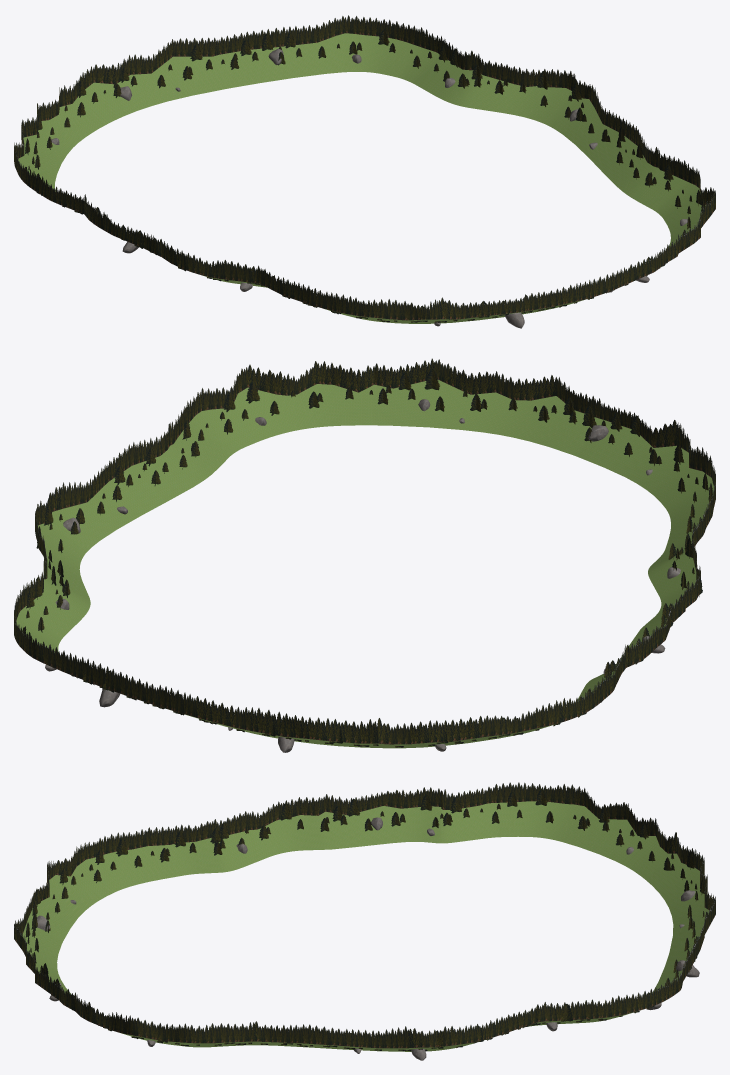
3 renders of one model, top to bottom at view 1: azimuth 30°, elevation 25°; view 2: azimuth 150°, elevation 25°; view 3: azimuth 270°, elevation 25°, orthographic. The views are drawn at different scales.
Visible parts, largest first — view 1: Wall_08, Wall_07, Wall_09, Wall_00, Wall_01, Wall_03, Wall_06, Wall_02, Wall_04, Wall_05, Trees_08, Trees_09 (+3 smaller); view 2: Wall_02, Wall_01, Wall_00, Wall_03, Wall_06, Wall_07, Wall_09, Wall_08, Wall_04, Wall_05, Trees_02, Trees_01 (+4 smaller); view 3: Wall_06, Wall_05, Wall_04, Wall_03, Wall_07, Wall_00, Wall_01, Wall_09, Wall_08, Wall_02, Trees_05, Trees_06 (+3 smaller).
Boxes of the visible parts, <box> form: Wall_08: <box>219,15,437,87</box>; Wall_07: <box>59,37,233,133</box>; Wall_09: <box>411,35,577,126</box>; Wall_00: <box>550,80,657,194</box>; Wall_01: <box>627,148,715,254</box>; Wall_03: <box>310,288,520,323</box>; Wall_06: <box>14,94,89,199</box>; Wall_02: <box>520,239,677,314</box>; Wall_04: <box>162,241,309,304</box>; Wall_05: <box>49,184,161,256</box>; Trees_08: <box>230,29,432,69</box>; Trees_09: <box>433,46,572,106</box>; Wall_02: <box>373,358,604,455</box>; Wall_01: <box>170,361,374,477</box>; Wall_00: <box>46,423,207,551</box>; Wall_03: <box>576,404,715,537</box>; Wall_06: <box>378,672,612,748</box>; Wall_07: <box>155,685,379,747</box>; Wall_09: <box>20,500,90,638</box>; Wall_08: <box>14,594,154,704</box>; Wall_04: <box>645,495,712,624</box>; Wall_05: <box>577,590,685,701</box>; Trees_02: <box>377,368,596,427</box>; Trees_01: <box>181,382,373,457</box>; Wall_06: <box>492,782,676,878</box>; Wall_05: <box>318,787,496,849</box>; Wall_04: <box>148,797,323,878</box>; Wall_03: <box>27,829,162,940</box>; Wall_07: <box>645,837,715,954</box>; Wall_00: <box>253,1021,437,1051</box>; Wall_01: <box>63,989,253,1047</box>; Wall_09: <box>432,999,599,1050</box>; Wall_08: <box>592,922,704,1022</box>; Wall_02: <box>14,906,70,1004</box>; Trees_05: <box>320,794,483,831</box>; Trees_06: <box>492,789,655,861</box>.
Size of what is drawn, in the model's own units: 412 by 34.87 by 493.
